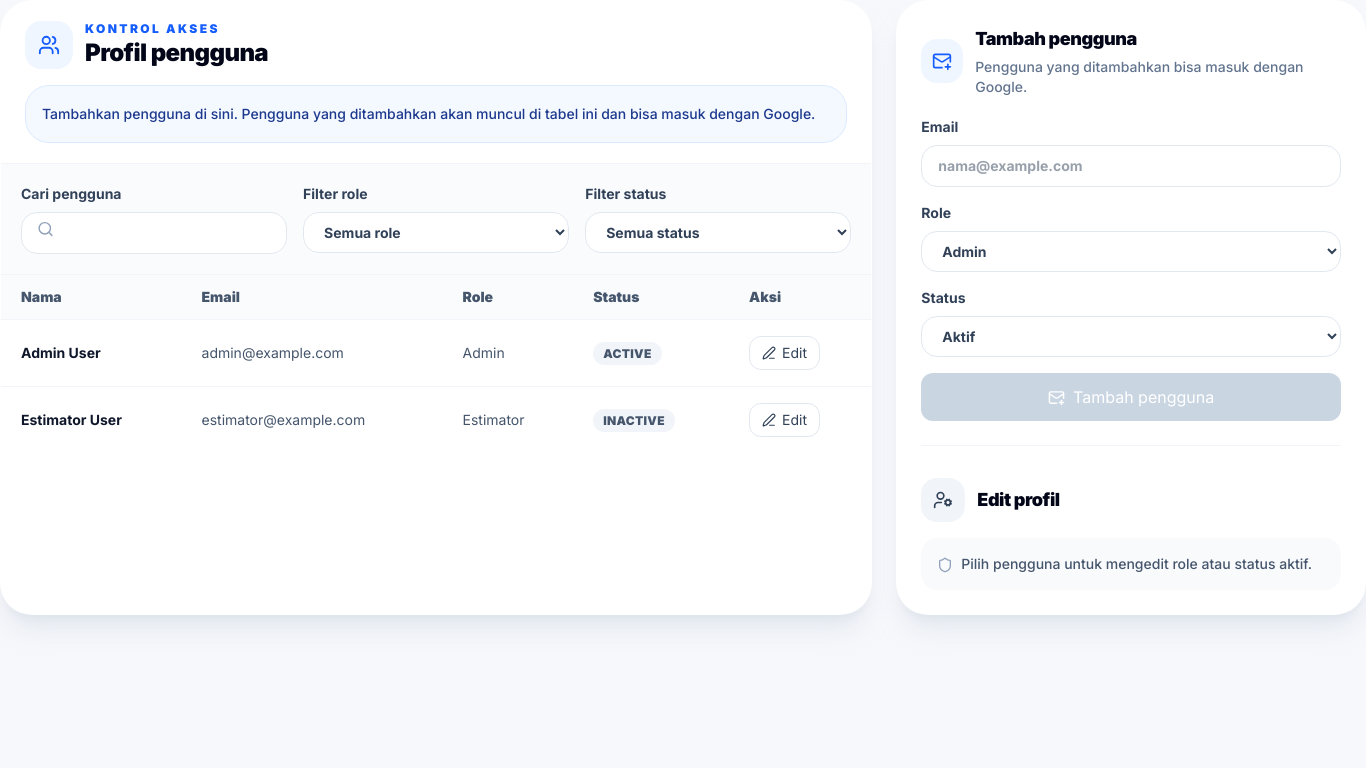
UserManagementView › filters users by search
Step 1. Type "estimator" into the field labelled "Cari pengguna" → (154,233), box [21,212,287,254]
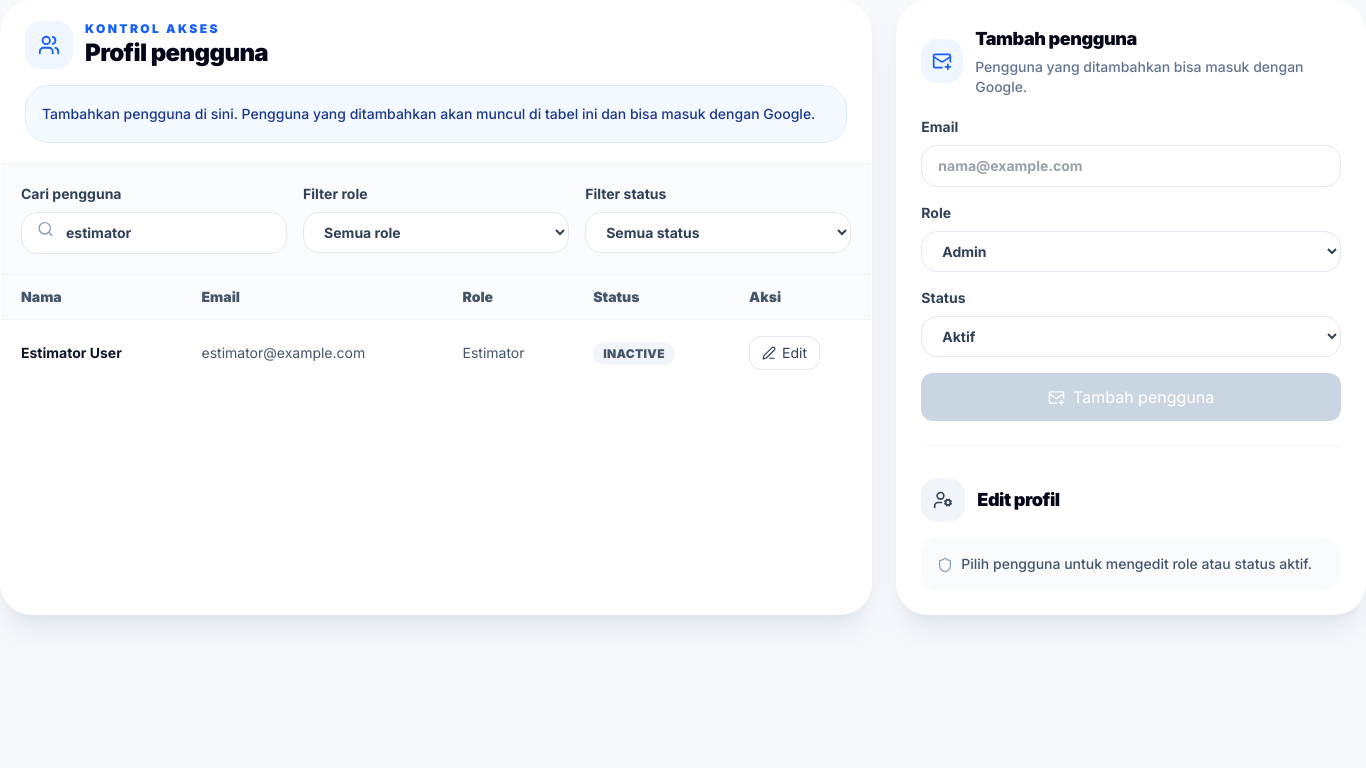
Check: the text "estimator@example.com" is shown, box [182,320,442,386]
Check: the text "admin@example.com" is gone
